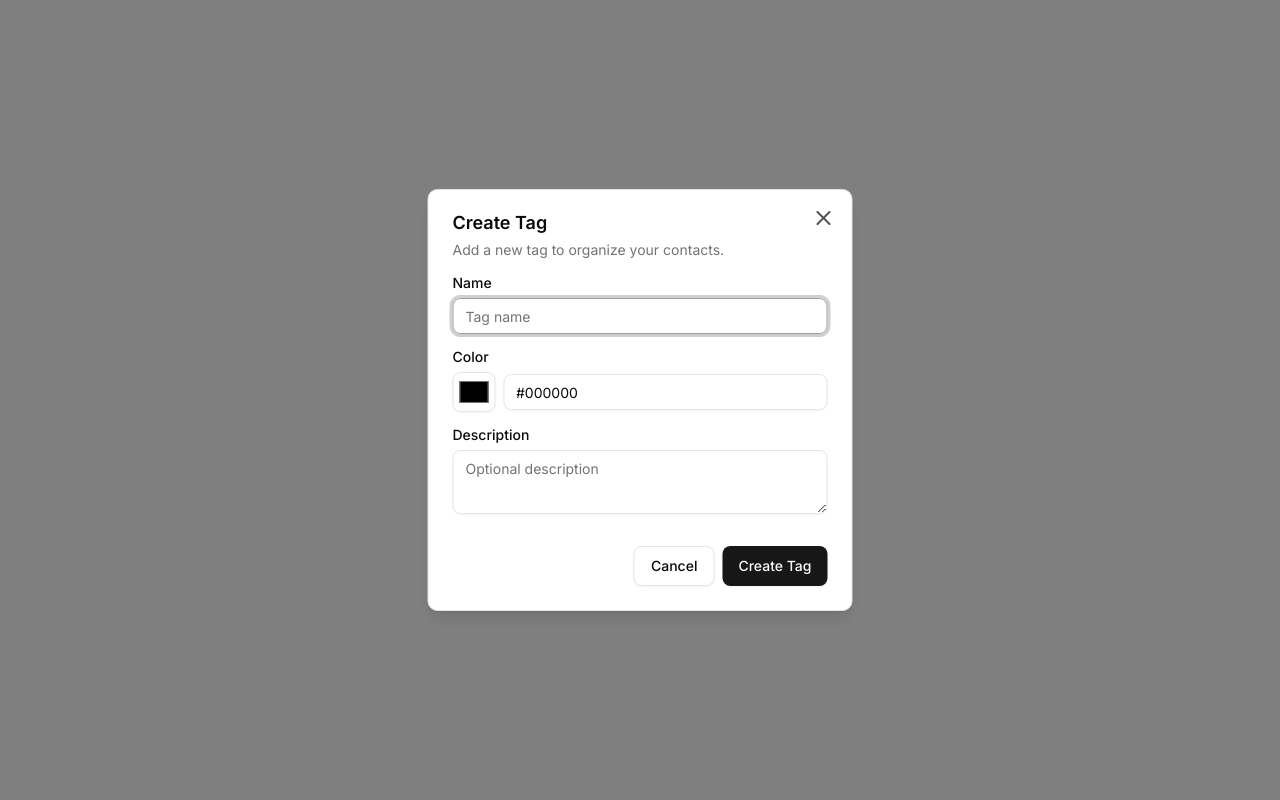
Test: CreateTagDialog › requires a name
Click the button "Create Tag".
click(775, 566)  # box [722,546,828,586]
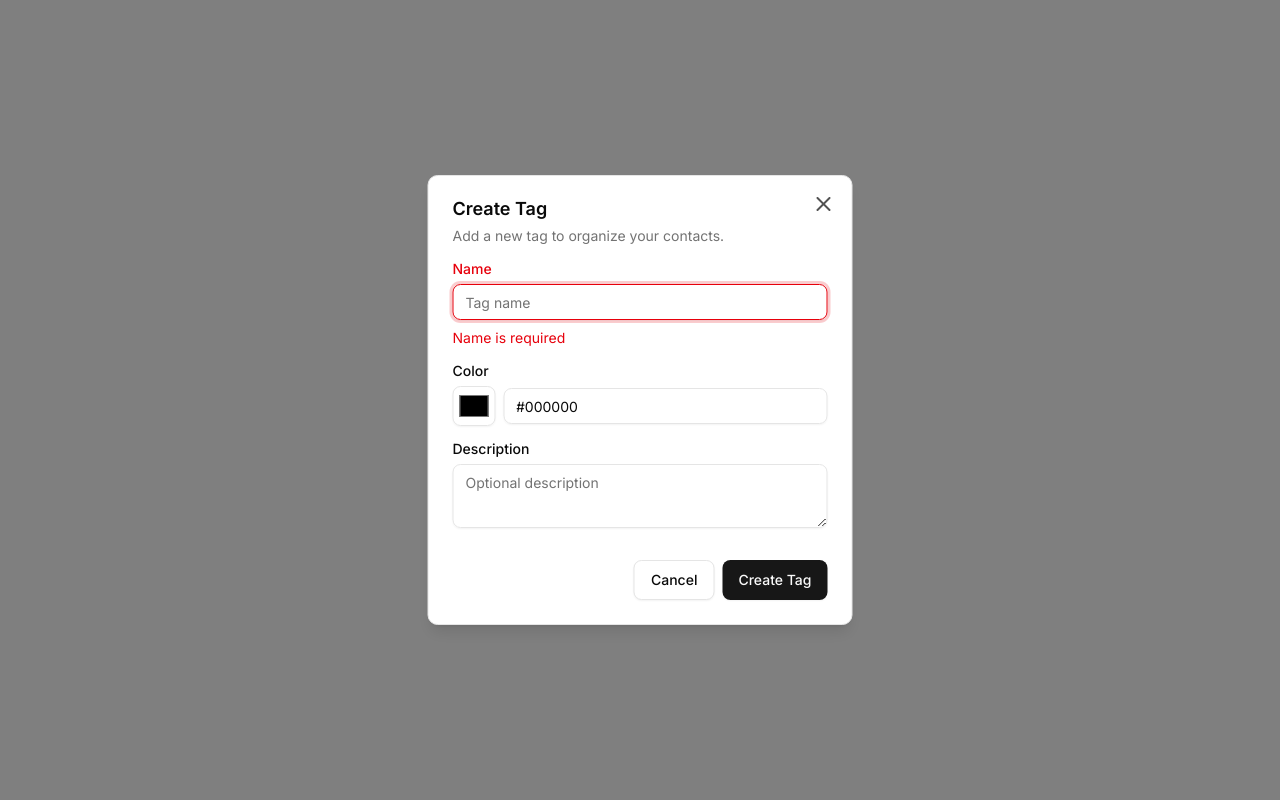
Expected: the text "Name is required" is shown, [452,329,565,346]
